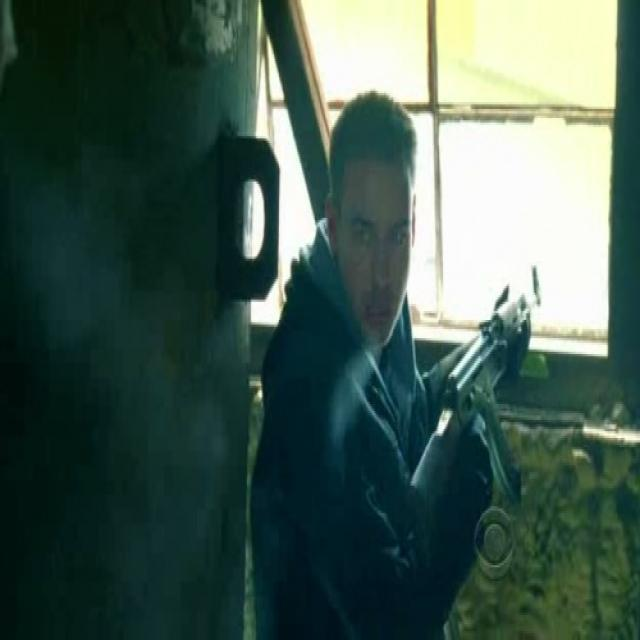rifle: (408, 259, 552, 550)
